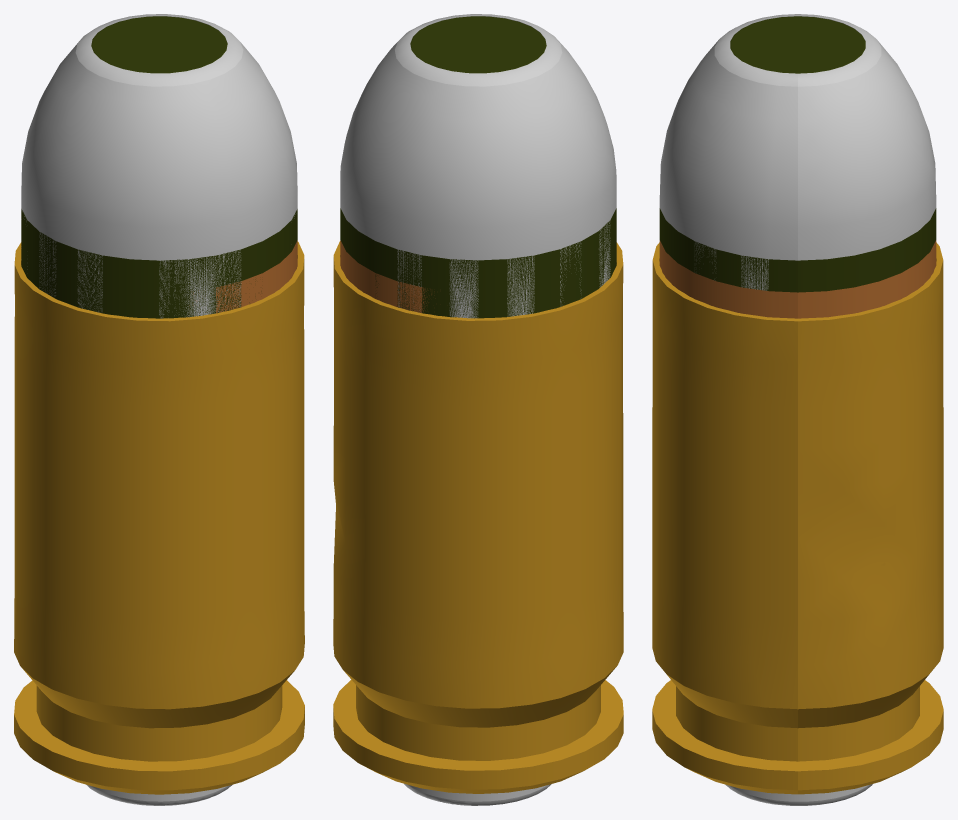
File: 380ACP(b).obj
3 renders of one model, left to right at view 1: azimuth 30°, elevation 25°; view 2: azimuth 150°, elevation 25°; view 3: azimuth 270°, elevation 25°, orthographic.
Visible parts, largest first — view 1: o4_IndexedFaceSet_o4_IndexedFaceSet.005, o12_IndexedFaceSet.002_o12_IndexedFaceSet.006, o12_IndexedFaceSet.001_o12_IndexedFaceSet.005, o12_IndexedFaceSet_o12_IndexedFaceSet.004, o4_IndexedFaceSet.001_o4_IndexedFaceSet.004; view 2: o4_IndexedFaceSet_o4_IndexedFaceSet.005, o12_IndexedFaceSet.002_o12_IndexedFaceSet.006, o12_IndexedFaceSet.001_o12_IndexedFaceSet.005, o12_IndexedFaceSet_o12_IndexedFaceSet.004, o4_IndexedFaceSet.001_o4_IndexedFaceSet.004; view 3: o4_IndexedFaceSet_o4_IndexedFaceSet.005, o12_IndexedFaceSet.002_o12_IndexedFaceSet.006, o12_IndexedFaceSet.001_o12_IndexedFaceSet.005, o12_IndexedFaceSet_o12_IndexedFaceSet.004, o4_IndexedFaceSet.001_o4_IndexedFaceSet.004.
Boxes of the visible parts, bbox=[...] form: o4_IndexedFaceSet_o4_IndexedFaceSet.005: bbox=[14, 241, 304, 794]; o12_IndexedFaceSet.002_o12_IndexedFaceSet.006: bbox=[21, 14, 297, 318]; o12_IndexedFaceSet.001_o12_IndexedFaceSet.005: bbox=[21, 16, 297, 318]; o12_IndexedFaceSet_o12_IndexedFaceSet.004: bbox=[189, 240, 297, 313]; o4_IndexedFaceSet.001_o4_IndexedFaceSet.004: bbox=[86, 784, 232, 805]; o4_IndexedFaceSet_o4_IndexedFaceSet.005: bbox=[333, 241, 623, 793]; o12_IndexedFaceSet.002_o12_IndexedFaceSet.006: bbox=[340, 14, 616, 318]; o12_IndexedFaceSet.001_o12_IndexedFaceSet.005: bbox=[340, 16, 616, 318]; o12_IndexedFaceSet_o12_IndexedFaceSet.004: bbox=[340, 240, 435, 313]; o4_IndexedFaceSet.001_o4_IndexedFaceSet.004: bbox=[404, 783, 551, 805]; o4_IndexedFaceSet_o4_IndexedFaceSet.005: bbox=[652, 242, 943, 794]; o12_IndexedFaceSet.002_o12_IndexedFaceSet.006: bbox=[659, 14, 936, 290]; o12_IndexedFaceSet.001_o12_IndexedFaceSet.005: bbox=[659, 16, 936, 292]; o12_IndexedFaceSet_o12_IndexedFaceSet.004: bbox=[659, 240, 936, 318]; o4_IndexedFaceSet.001_o4_IndexedFaceSet.004: bbox=[725, 784, 872, 805].
Bounding box in the file's own units: 9.5 × 26.22 × 9.5.
